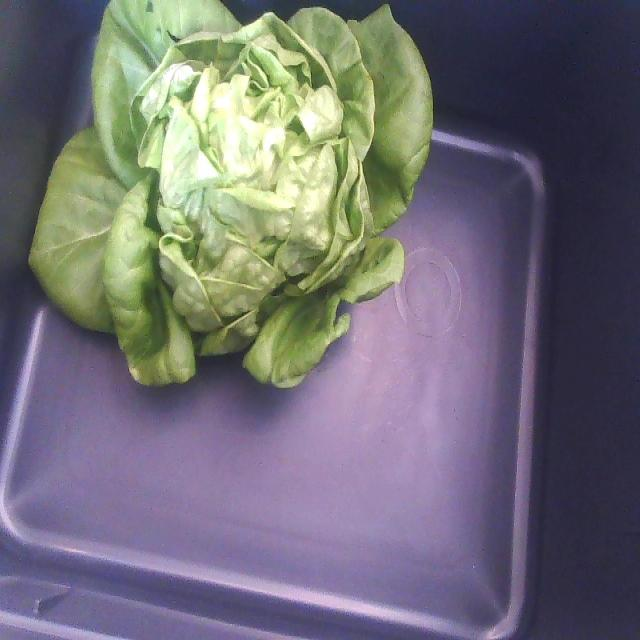Lettuce-plant: (30, 0, 432, 387)
